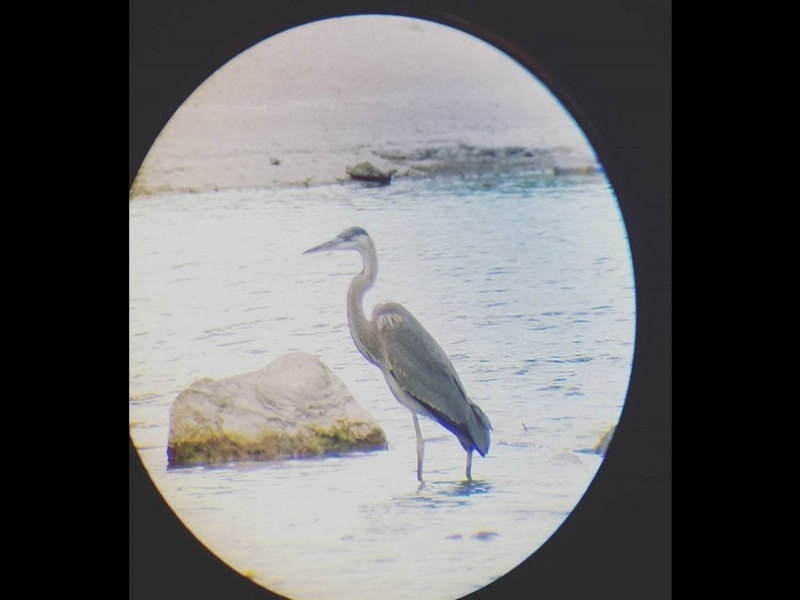heron: (305, 222, 493, 487)
